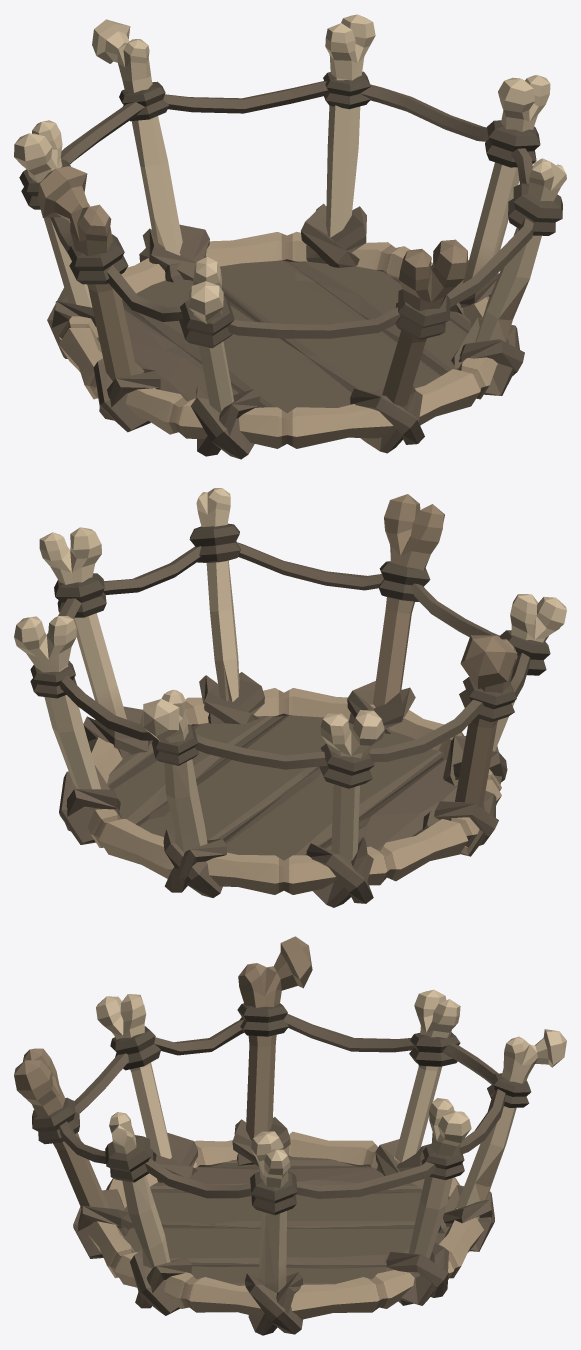
File: SM_Prop_Crows_Nest_03.fbx
3 views of the same model, one above another, from view 1: azimuth 30°, elevation 25°; view 2: azimuth 150°, elevation 25°; view 3: azimuth 270°, elevation 25° (orthographic). The views are drawn at different scales.
Visible parts, largest first — view 1: SM_Prop_Crows_Nest_03; view 2: SM_Prop_Crows_Nest_03; view 3: SM_Prop_Crows_Nest_03.
Boxes of the visible parts, left/top/right/bottom form: SM_Prop_Crows_Nest_03: left=14, top=14, right=566, bottom=459; SM_Prop_Crows_Nest_03: left=14, top=488, right=566, bottom=907; SM_Prop_Crows_Nest_03: left=14, top=936, right=566, bottom=1335.
Bounding box in the file's own units: 275 × 132 × 300.
